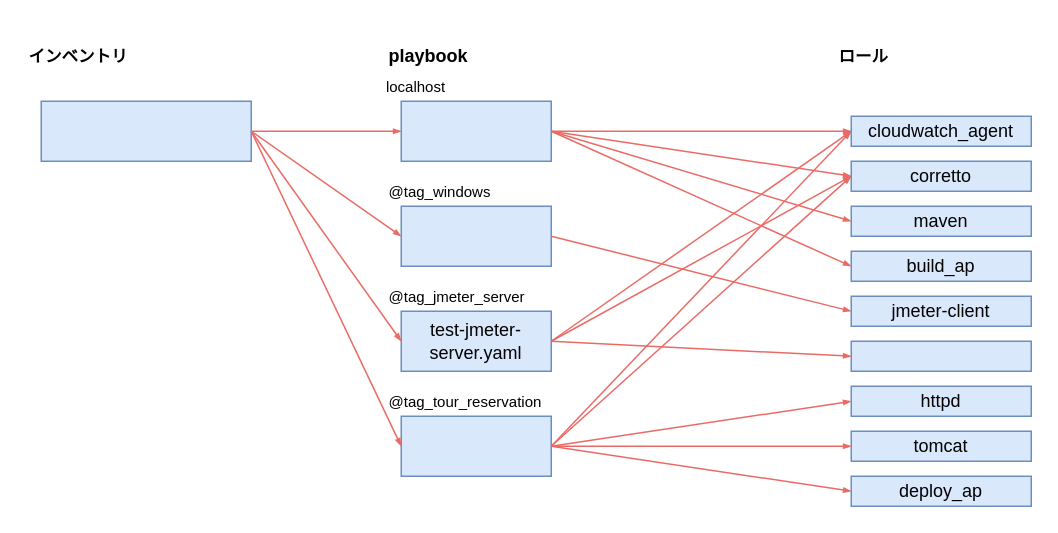
Some shapes in this 1058 by 533 pixel diagram are drawn without their labels. The centre of each missing label's shape, as x and y in pixels:
"inventory_aws_ec2.yaml" belongs at (145,130).
"jmeter-server" belongs at (940,355).
"test-ansible.yaml" belongs at (475,130).
"test-jmeter-client.yaml" belongs at (475,235).
"webap.yaml" belongs at (475,445).
